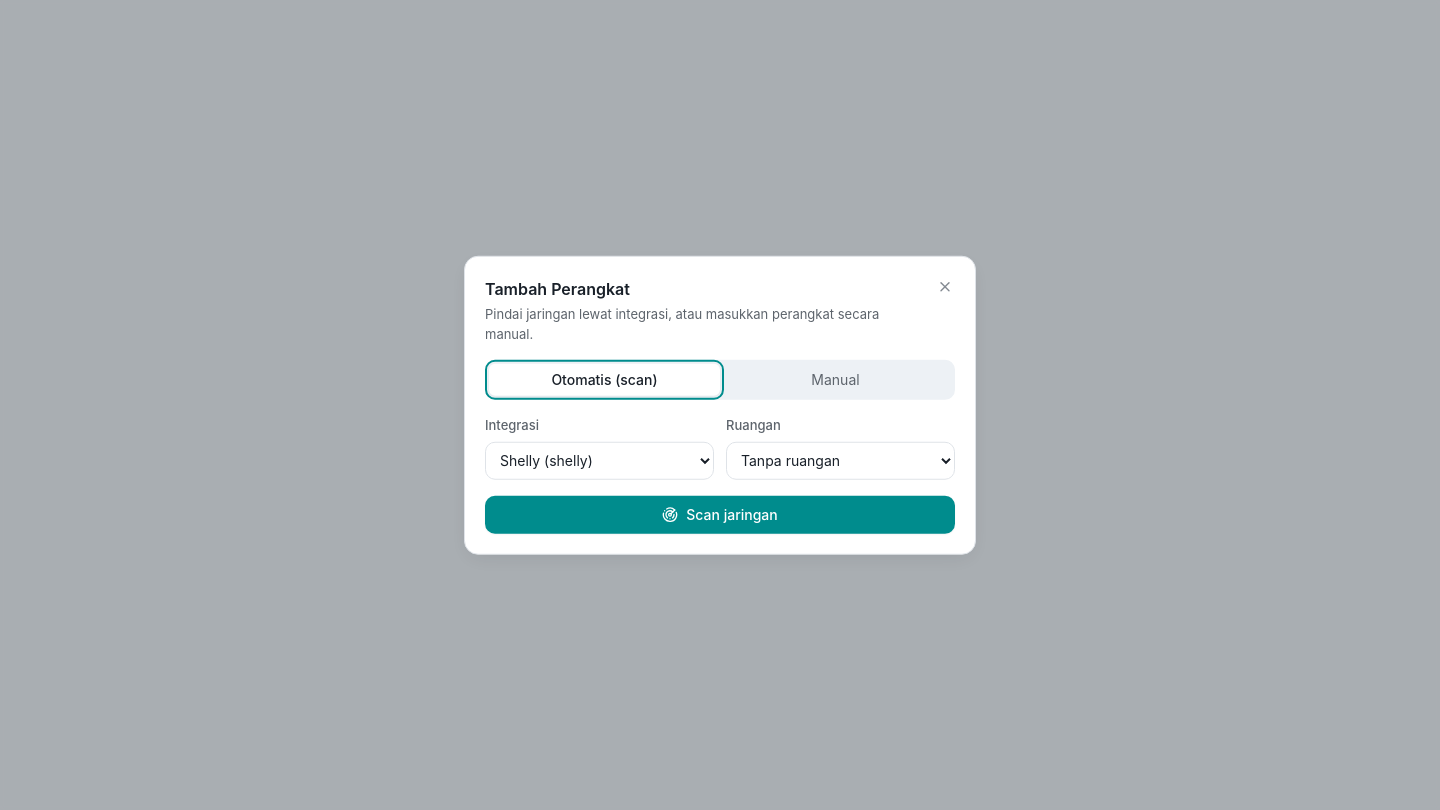
Scenario: AddDeviceModal › scan › surfaces the API error message
Click the button "Scan jaringan". click: coordinates (720, 514)
box: 485,495 -> 955,533
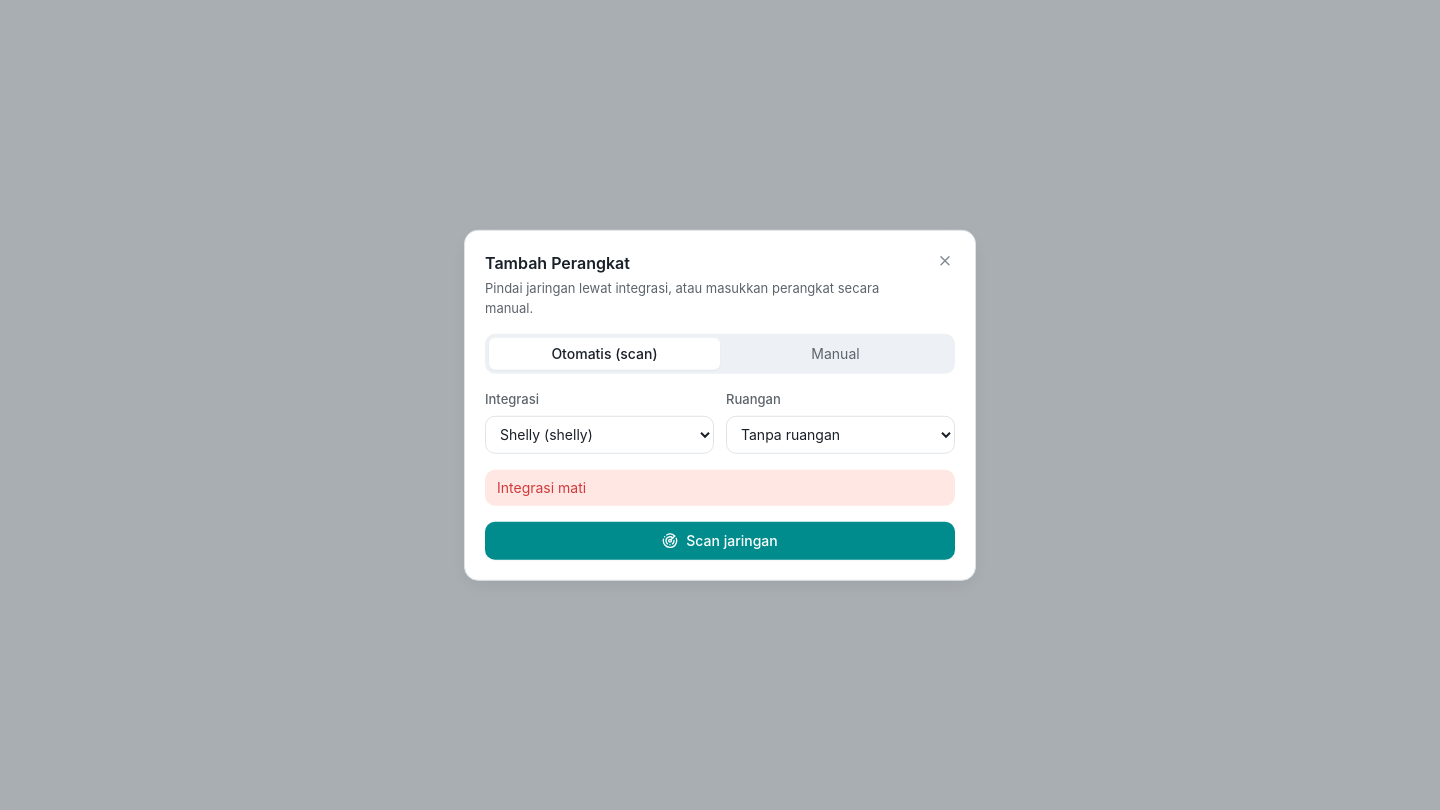
Now the text "Integrasi mati" is shown, box 485,469 -> 955,505
